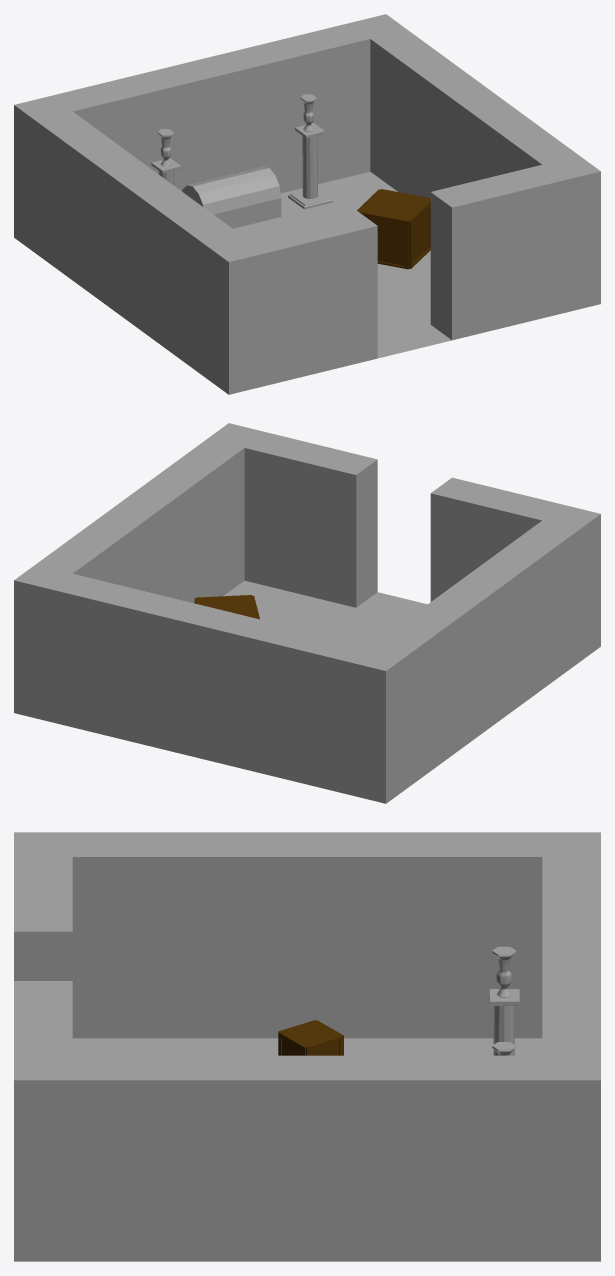
The model's file is Treasureroom.fbx.
3 views of the same model, one above another, from view 1: azimuth 30°, elevation 25°; view 2: azimuth 150°, elevation 25°; view 3: azimuth 270°, elevation 25° (orthographic). The views are drawn at different scales.
Visible parts, largest first — view 1: pPlane64; view 2: pPlane64; view 3: pPlane64.
Part boxes in pixels (left/top/right/bottom): pPlane64: left=14, top=14, right=600, bottom=394; pPlane64: left=14, top=423, right=600, bottom=803; pPlane64: left=14, top=832, right=600, bottom=1261.
Size of the model in its own units: 23.74 by 8.26 by 23.74.
